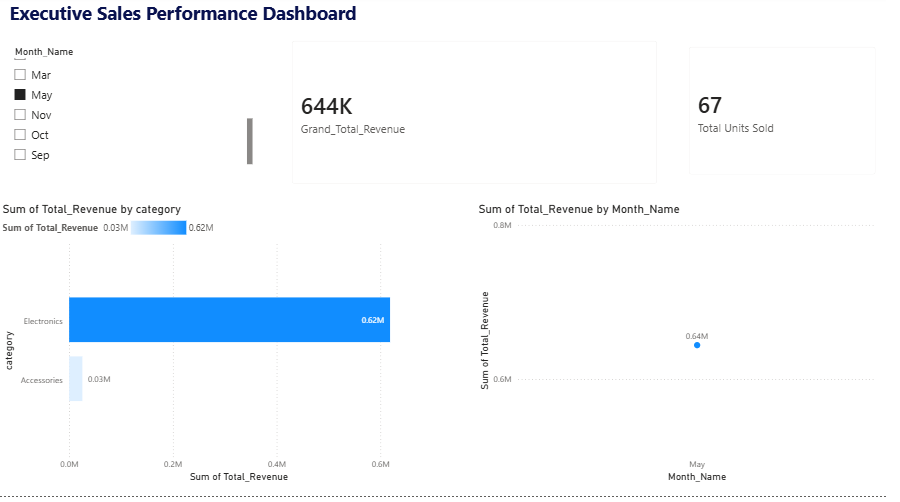

The dashboard page shown, as its layout file describes it:
{"tool":"powerbi","page":{"name":"Page 1","canvas":[1280,720],"ordinal":0},"visuals":[{"type":"cardVisual","fields":{"Data":["sales_transactions.Grand_Total_Revenue"]},"box":[404.6,47.5,560.2,240.5],"z":0},{"type":"cardVisual","fields":{"Data":["sales_transactions.Total Units Sold"]},"box":[976.3,56.2,303.8,218.9],"z":1000},{"type":"clusteredBarChart","fields":{"Category":["product_directory.category"],"Y":["Sum(sales_transactions.Total_Revenue)"]},"box":[0,296.6,609.1,409],"z":2000},{"type":"lineChart","fields":{"Y":["Sum(sales_transactions.Total_Revenue)"],"Category":["CalendarTable.Month_Name"]},"box":[685.4,296.6,581.8,409],"z":3000},{"type":"slicer","fields":{"Values":["CalendarTable.Month_Name"]},"box":[10.1,66.2,360,181.4],"z":4000},{"type":"textbox","box":[10.1,0,522.7,56.2],"z":5000}]}

Visuals, with their boxes in screenshot pixels (x1, y1, x2, y2), scaled from the page's 1280x720 canvas onto the 900x502 screenshot:
cardVisual - sales_transactions.Grand_Total_Revenue: bbox=[284, 33, 678, 201]
cardVisual - sales_transactions.Total Units Sold: bbox=[686, 39, 899, 192]
clusteredBarChart - product_directory.category x Sum(sales_transactions.Total_Revenue): bbox=[0, 207, 428, 492]
lineChart - Sum(sales_transactions.Total_Revenue) x CalendarTable.Month_Name: bbox=[482, 207, 891, 492]
slicer - CalendarTable.Month_Name: bbox=[7, 46, 260, 173]
textbox: bbox=[7, 0, 375, 39]
